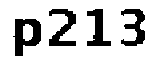1: (84, 7, 114, 53)
2: (46, 6, 78, 51)
3: (118, 7, 148, 51)
p: (10, 17, 43, 59)
